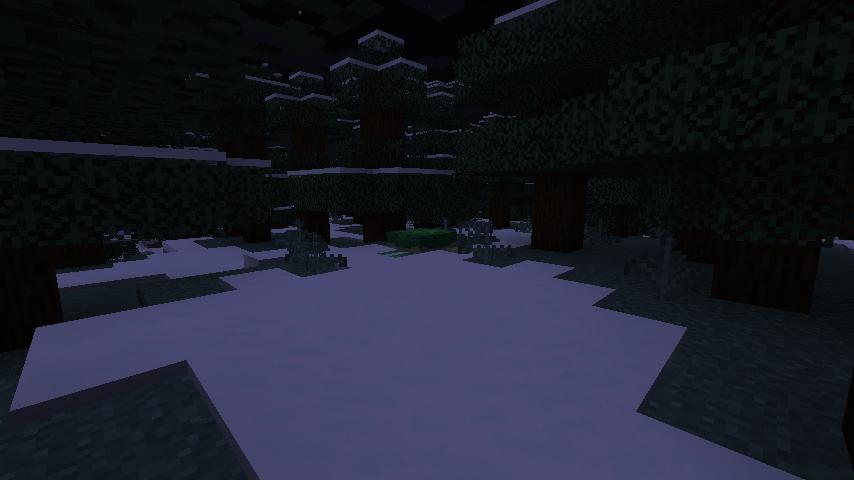turtle: (378, 224, 464, 258)
